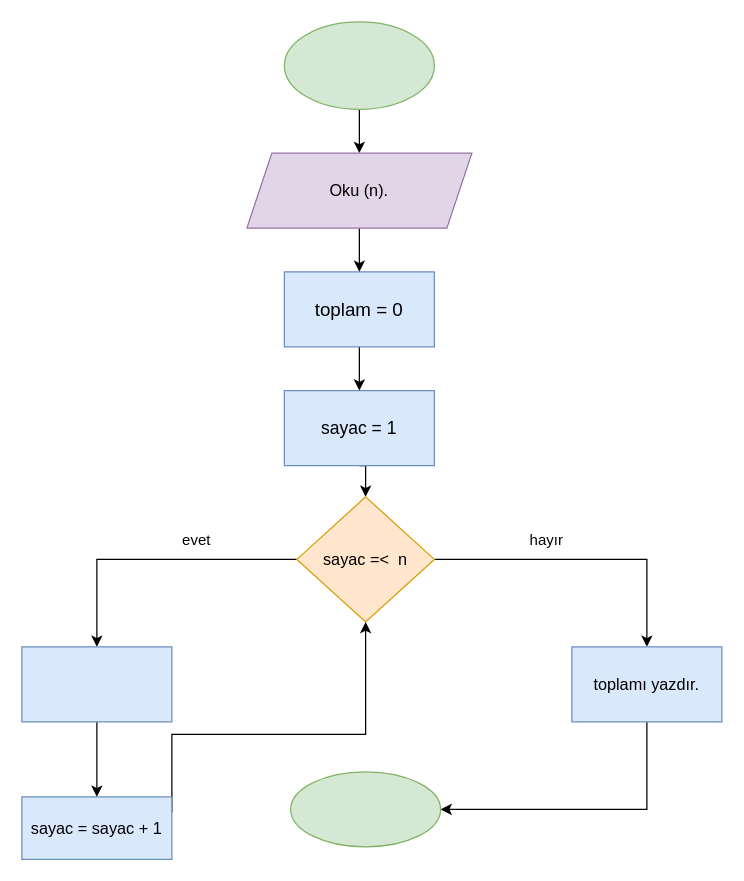
Some shapes in this 744 by 881 pixel diagram are drawn without their labels. The centre of each missing label's shape, as x and y in pixels:
BAŞLA.: [358,65]
DUR.: [365,809]
toplam = toplam + sayac: [96,684]
